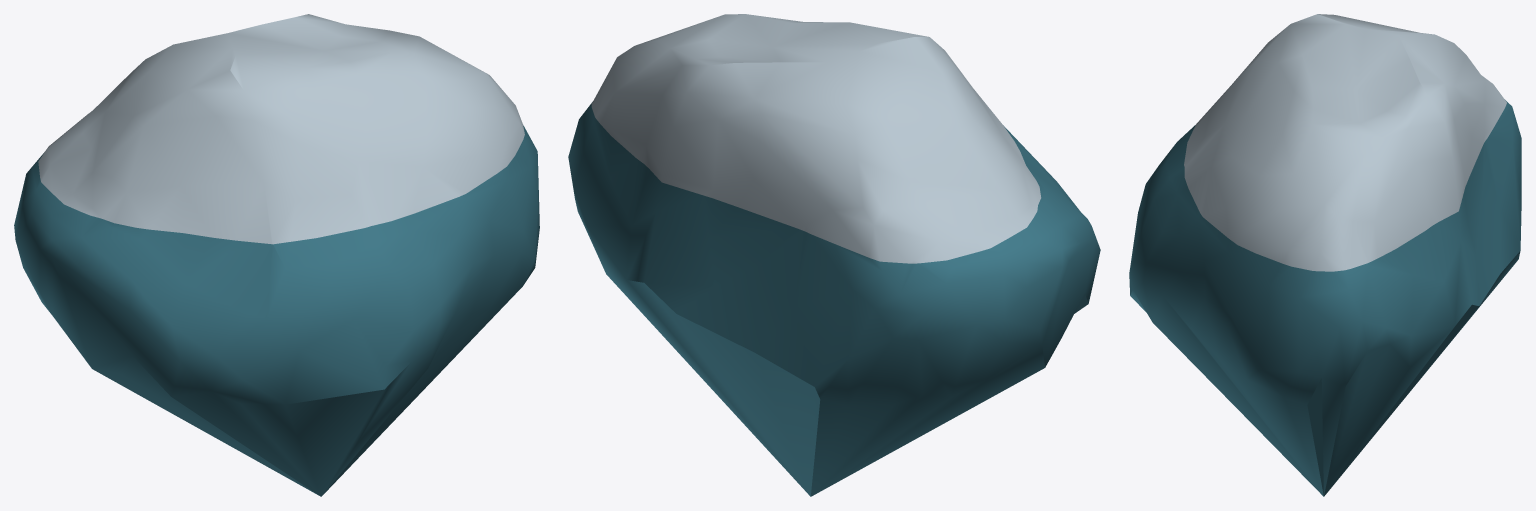
File: growler_a.glb
The picture shows the model from 3 angles, left to right: view 1: azimuth 30°, elevation 25°; view 2: azimuth 150°, elevation 25°; view 3: azimuth 270°, elevation 25°; orthographic projection. The views are drawn at different scales.
Parts seen in each view (by area): view 1: growler_a; view 2: growler_a; view 3: growler_a.
Boxes of the visible parts, bbox=[...] form: growler_a: bbox=[14, 14, 539, 496]; growler_a: bbox=[568, 14, 1100, 496]; growler_a: bbox=[1129, 14, 1521, 496].
Bounding box in the file's own units: 2.4 × 2.2 × 1.79.
